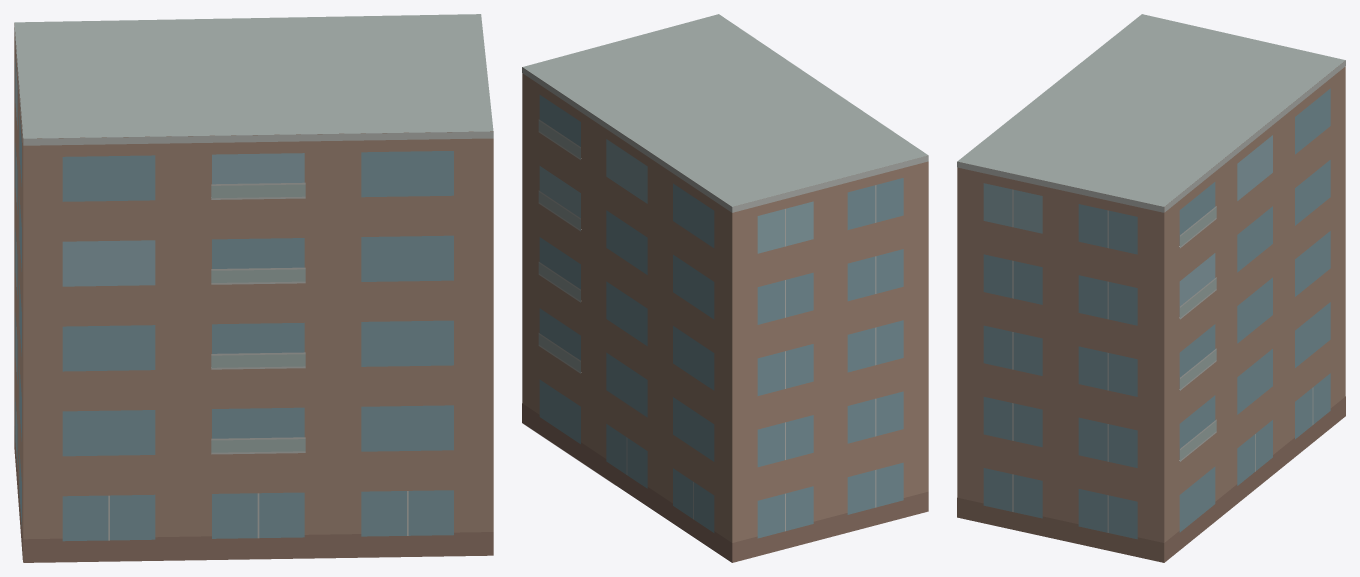
File: survey-upis-32882453.glb
3 views of the same model, side by side, from view 1: azimuth 30°, elevation 25°; view 2: azimuth 150°, elevation 25°; view 3: azimuth 270°, elevation 25° (orthographic). The views are drawn at different scales.
Visible parts, largest first — view 1: survey-upis-32882453.tmp; view 2: survey-upis-32882453.tmp; view 3: survey-upis-32882453.tmp.
Part boxes in pixels (x1,y1,x2,y2): survey-upis-32882453.tmp: (14, 14, 493, 562); survey-upis-32882453.tmp: (522, 14, 928, 562); survey-upis-32882453.tmp: (957, 14, 1345, 562).
Size of the model in its own units: 16.98 by 14.6 by 14.46.
